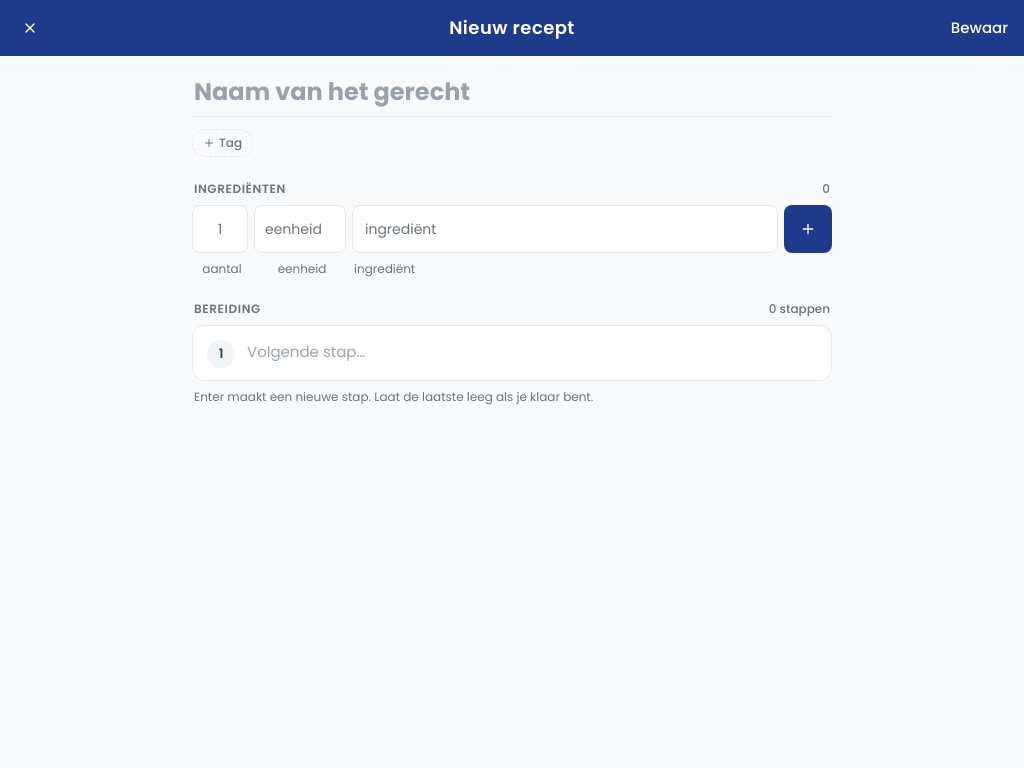
Test: RecipeForm › removes a line again
This screenshot has width=1024, height=768.
Type "pasta" into the field labelled "ingrediënt" at (565, 229), box [352,205,778,253]
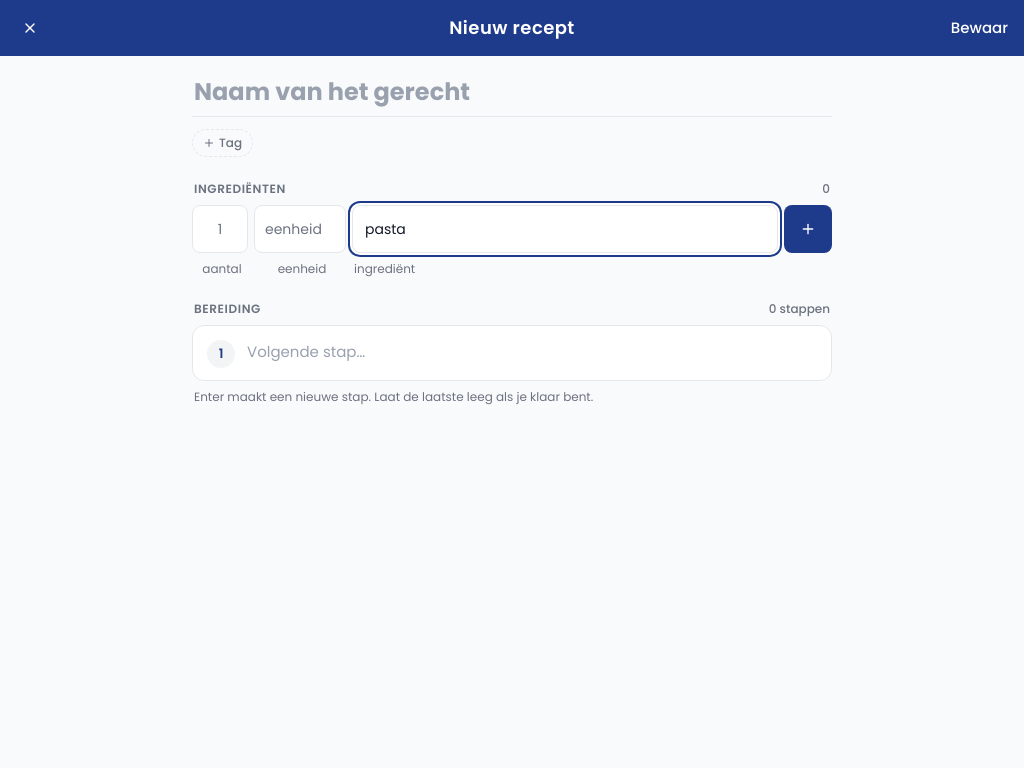
Click the button named "Ingrediënt toevoegen" at (808, 229), box [784,205,832,253]
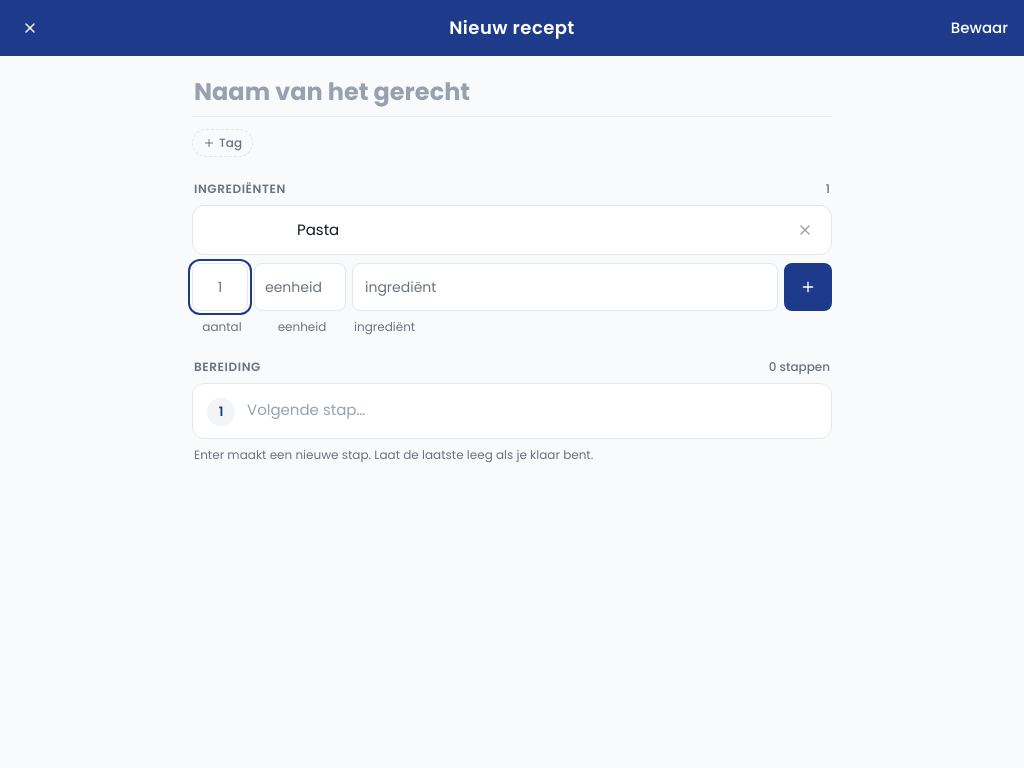
Click the button named "pasta verwijderen" at (805, 230), box [787,212,823,248]
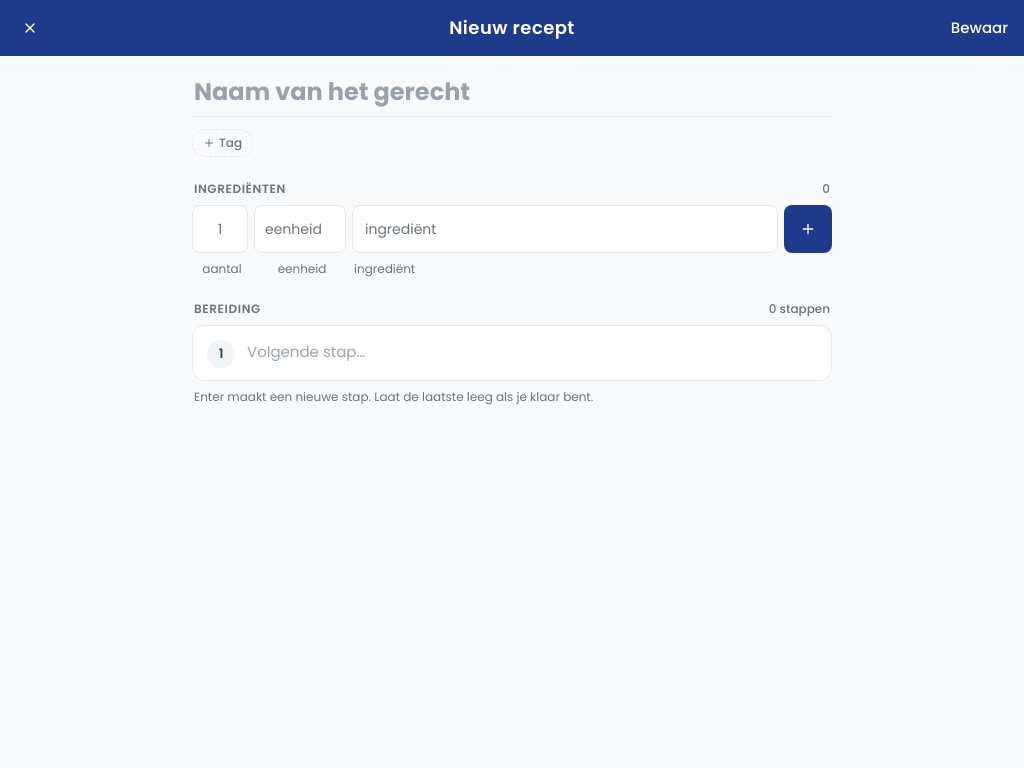
Result: the text "pasta" is gone
